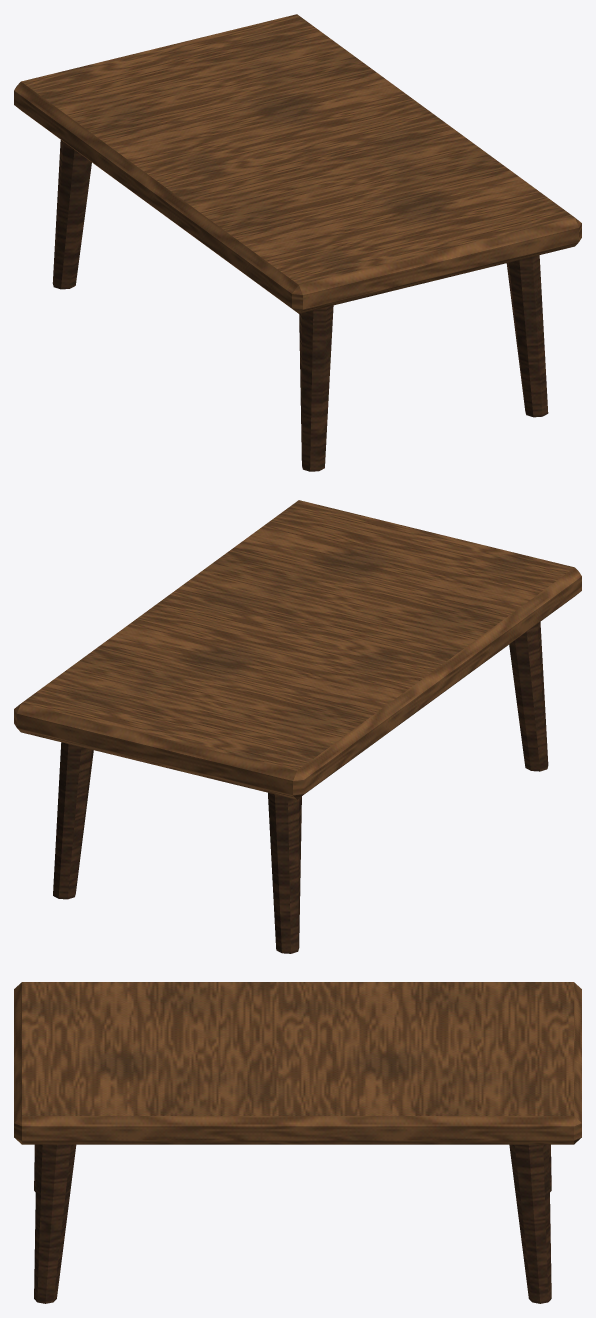
The model's file is Table01.fbx.
The picture shows the model from 3 angles, top to bottom: view 1: azimuth 30°, elevation 25°; view 2: azimuth 150°, elevation 25°; view 3: azimuth 270°, elevation 25°; orthographic projection.
Parts seen in each view (by area): view 1: Table02.003, Table02; view 2: Table02.003, Table02; view 3: Table02.003, Table02.
Boxes of the visible parts, bbox=[...] form: Table02.003: bbox=[14, 14, 581, 313]; Table02: bbox=[52, 140, 548, 471]; Table02.003: bbox=[14, 500, 581, 799]; Table02: bbox=[53, 622, 548, 953]; Table02.003: bbox=[14, 982, 581, 1144]; Table02: bbox=[34, 1144, 551, 1303].
Bounding box in the file's own units: 1.25 × 0.8146 × 2.14.
2 materials, 2 textured.
